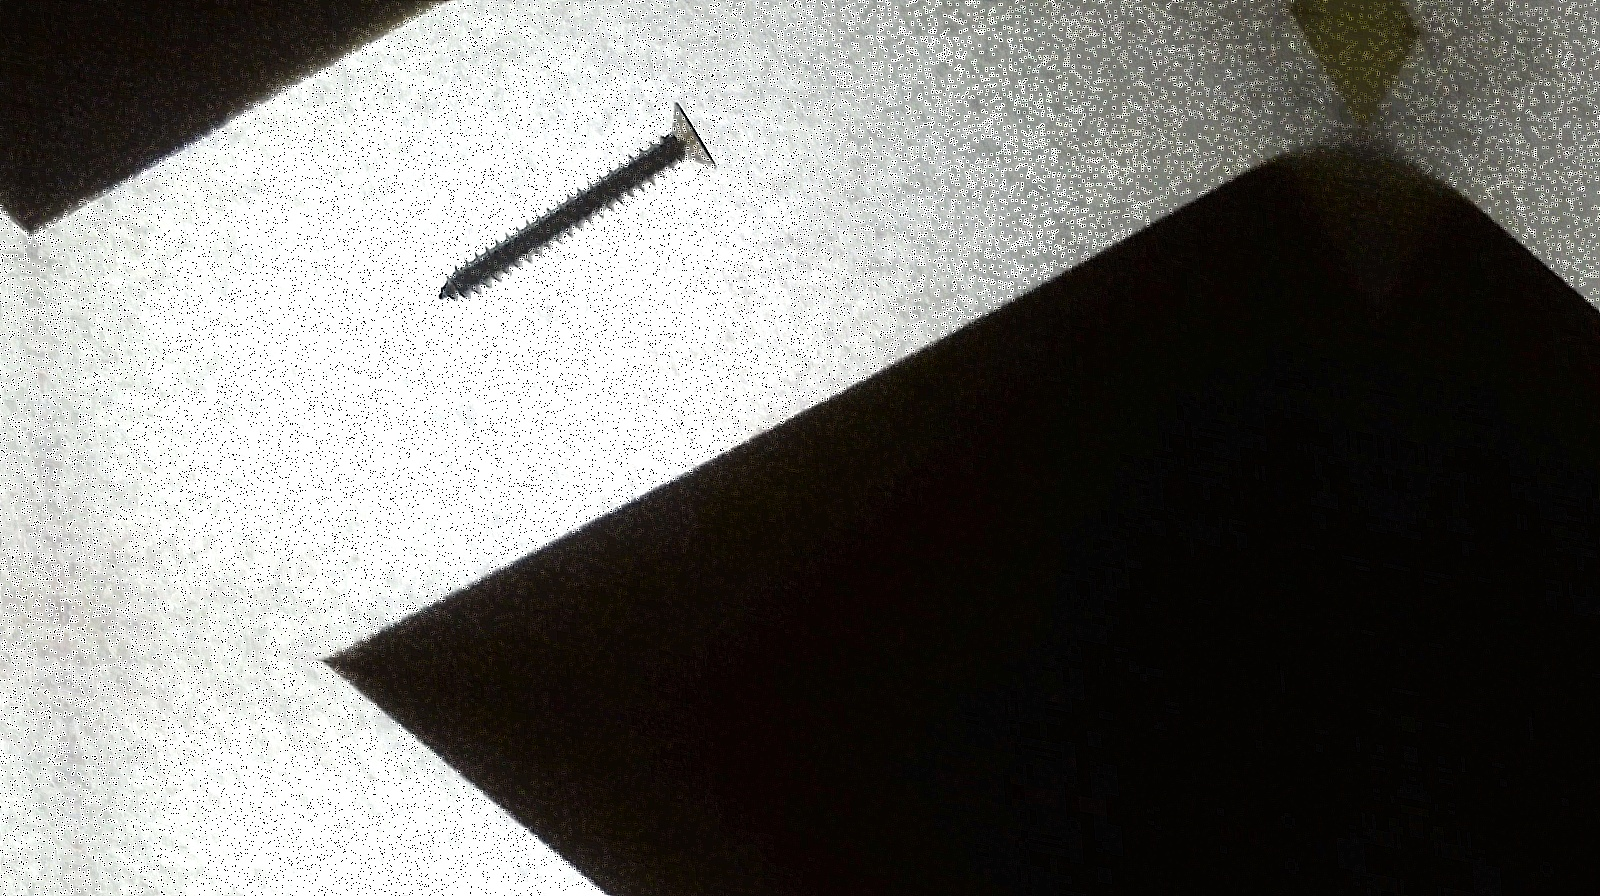S002: (402, 33, 744, 366)
